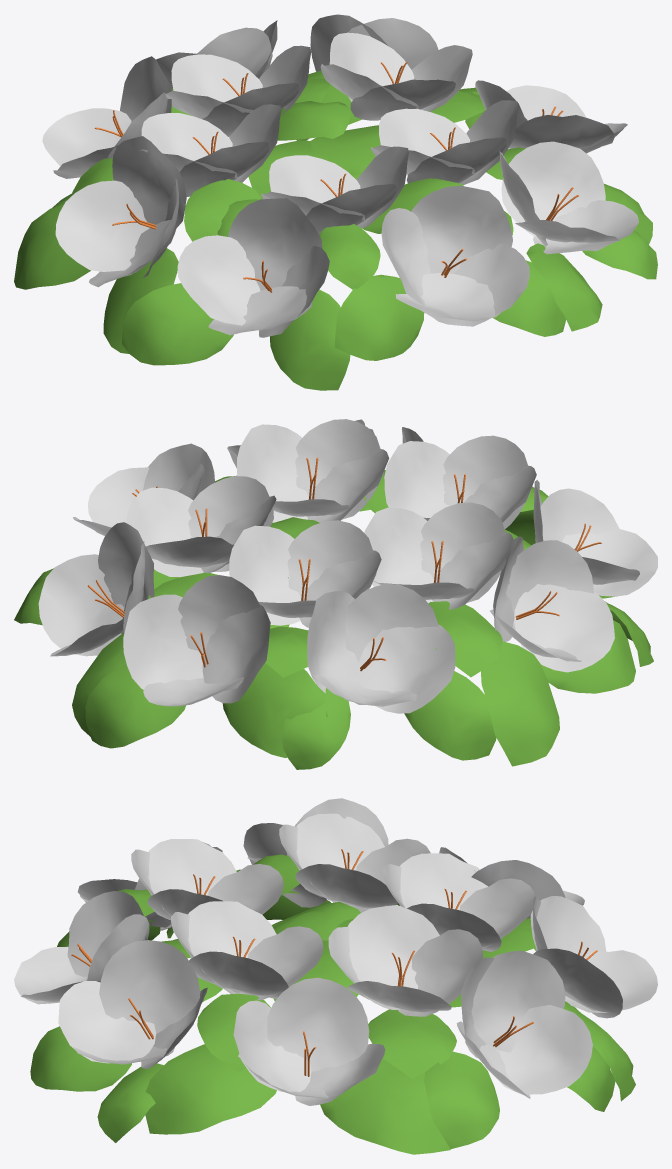
Rendered from whiteFlower.fbx.
The picture shows the model from 3 angles, top to bottom: view 1: azimuth 30°, elevation 25°; view 2: azimuth 150°, elevation 25°; view 3: azimuth 270°, elevation 25°; orthographic projection.
Visible parts, largest first — view 1: petal7, petal8, petal9, petal6, petal13, petal17, petal16, petal14, petal15, petal10, leaf11, leaf13 (+20 smaller); view 2: petal10, petal11, petal9, petal17, petal15, petal14, petal12, petal13, petal16, petal8, leaf9, petal5 (+13 smaller); view 3: petal12, petal5, petal6, petal13, petal17, petal11, petal14, petal15, petal16, petal7, leaf, leaf2 (+15 smaller).
Part boxes in pixels (x1,y1,x2,y2): petal7: [381, 185, 529, 326]; petal8: [177, 198, 329, 337]; petal9: [55, 136, 186, 287]; petal6: [499, 141, 638, 254]; petal13: [320, 32, 472, 120]; petal17: [371, 100, 518, 185]; petal16: [261, 146, 408, 234]; petal14: [163, 45, 311, 136]; petal15: [140, 104, 281, 196]; petal10: [42, 56, 171, 178]; leaf11: [122, 283, 233, 365]; leaf13: [334, 274, 424, 360]; petal10: [307, 583, 455, 713]; petal11: [123, 575, 270, 706]; petal9: [490, 536, 614, 672]; petal17: [237, 419, 389, 522]; petal15: [364, 502, 513, 609]; petal14: [229, 520, 381, 627]; petal12: [38, 522, 154, 656]; petal13: [126, 476, 276, 577]; petal16: [384, 435, 536, 529]; petal8: [533, 480, 657, 596]; leaf9: [481, 641, 559, 766]; petal5: [73, 443, 214, 535]; petal12: [456, 950, 592, 1098]; petal5: [233, 977, 385, 1105]; petal6: [58, 940, 207, 1068]; petal13: [328, 905, 483, 1016]; petal17: [171, 901, 323, 1000]; petal11: [530, 896, 657, 1018]; petal14: [382, 853, 534, 951]; petal15: [279, 813, 430, 912]; petal16: [131, 839, 283, 920]; petal7: [14, 891, 149, 1004]; leaf: [145, 1044, 276, 1134]; leaf2: [320, 1058, 450, 1154].
Size of the model in its own units: 5.79 by 1.83 by 6.15.
